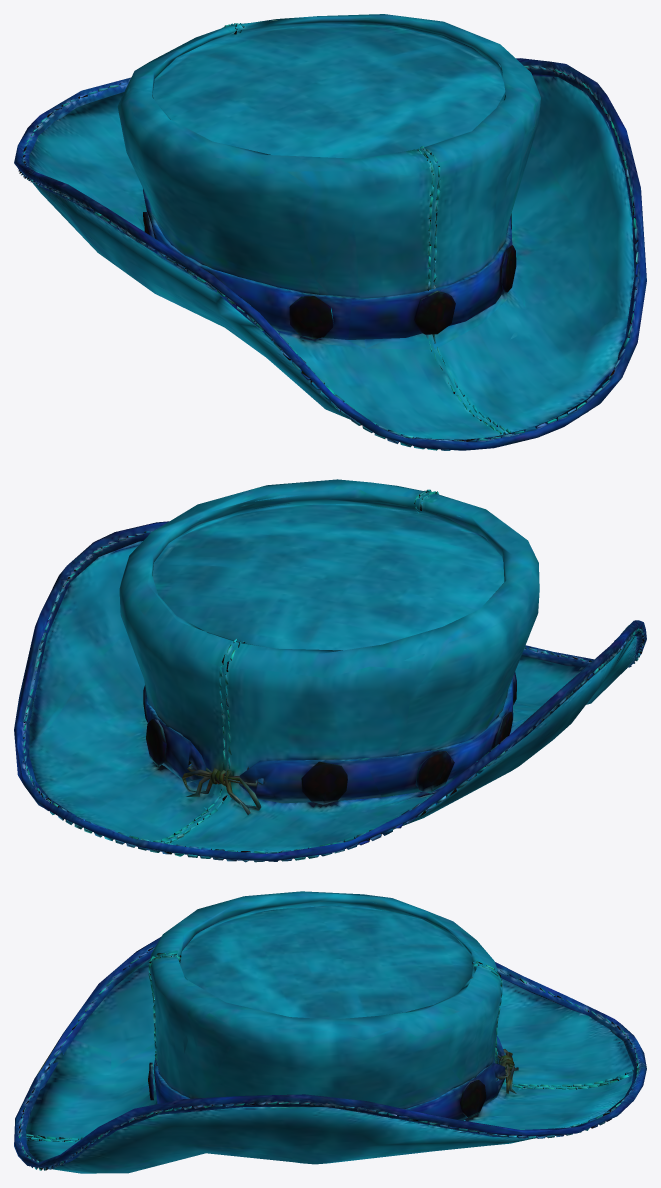
The model's file is hat3.glb.
The picture shows the model from 3 angles, top to bottom: view 1: azimuth 30°, elevation 25°; view 2: azimuth 150°, elevation 25°; view 3: azimuth 270°, elevation 25°; orthographic projection. The views are drawn at different scales.
Visible parts, largest first — view 1: noble leather hat..001; view 2: noble leather hat..001; view 3: noble leather hat..001.
Part boxes in pixels (x1,y1,x2,y2): noble leather hat..001: (14, 14, 646, 450); noble leather hat..001: (14, 479, 646, 862); noble leather hat..001: (14, 891, 646, 1173).
Bounding box in the file's own units: 1.6 × 0.7004 × 2.11.
Materials: 1 (1 with a texture image).
